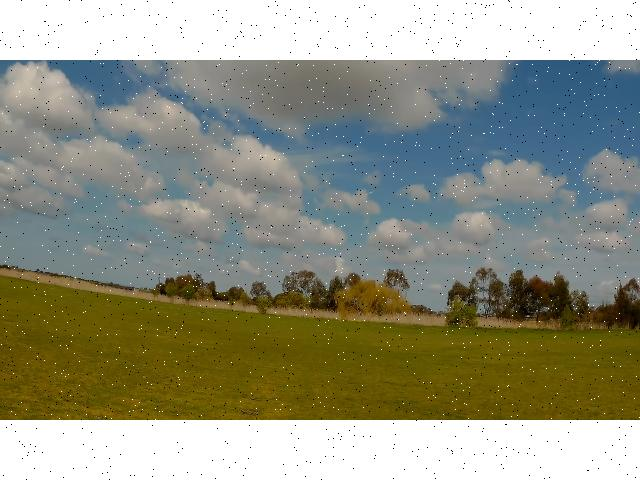Anti-Drone: (352, 184, 382, 202)
